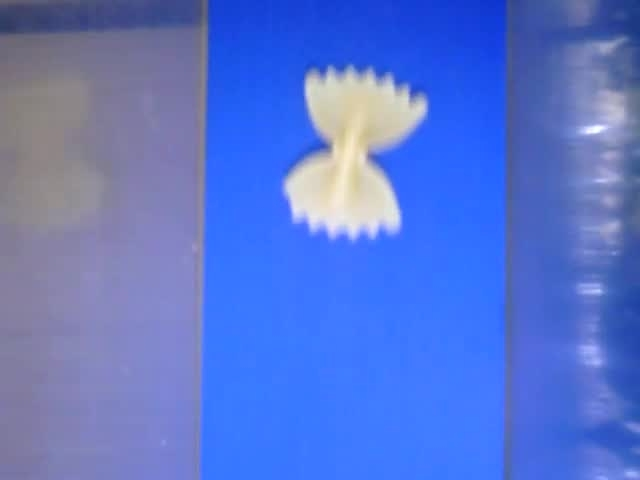farfalle: (281, 64, 427, 241)
